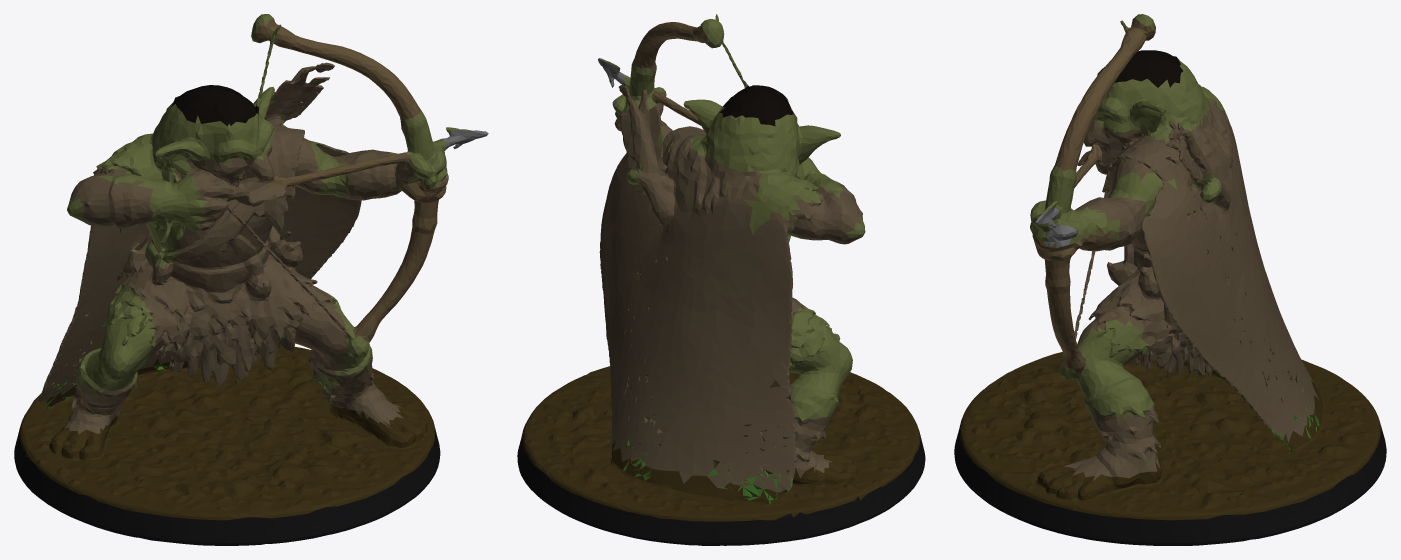
The model's file is goblin_arqueiro.glb.
3 renders of one model, left to right at view 1: azimuth 30°, elevation 25°; view 2: azimuth 150°, elevation 25°; view 3: azimuth 270°, elevation 25°, orthographic. The views are drawn at different scales.
Visible parts, largest first — view 1: tmpm0qr7sr5.ply; view 2: tmpm0qr7sr5.ply; view 3: tmpm0qr7sr5.ply.
Boxes of the visible parts, <box> form: tmpm0qr7sr5.ply: <box>14,14,488,545</box>; tmpm0qr7sr5.ply: <box>517,14,925,545</box>; tmpm0qr7sr5.ply: <box>954,14,1386,545</box>.
Bounding box in the file's own units: 1.74 × 1.96 × 1.69.
